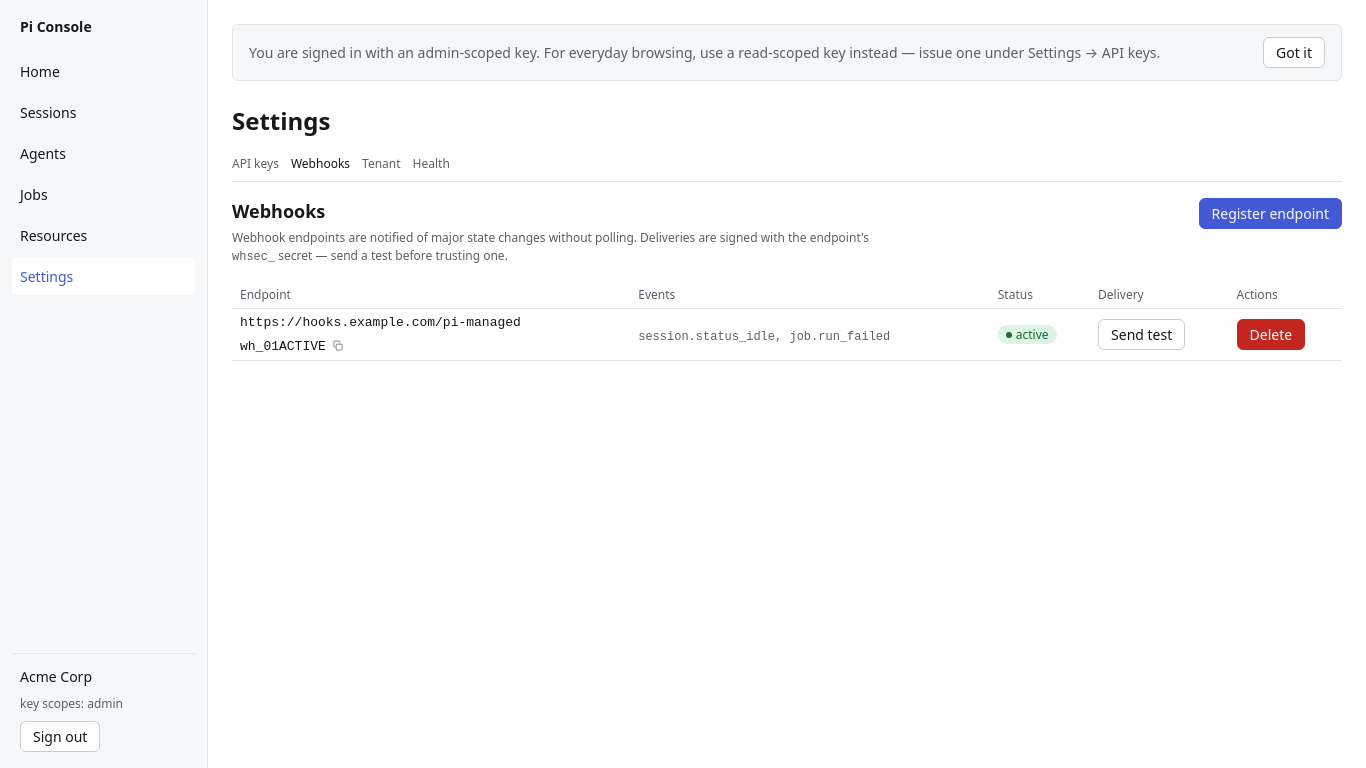
Test: test delivery (W13: send test before trusting it) › reports an acknowledged delivery inline
Click the button "Send test" at (1142, 335), box [1098, 319, 1185, 350]
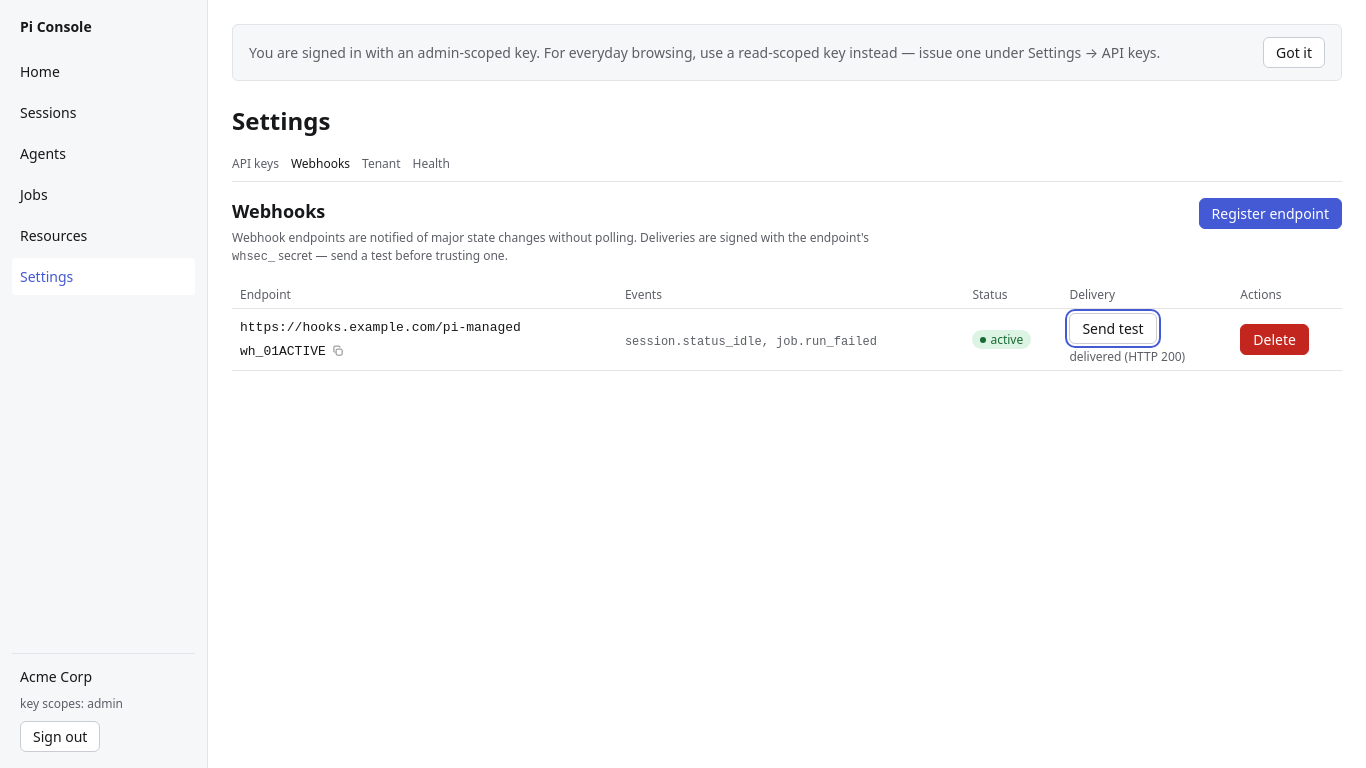
Now the text "delivered (HTTP 200)" is shown, box [1069, 348, 1185, 366]
